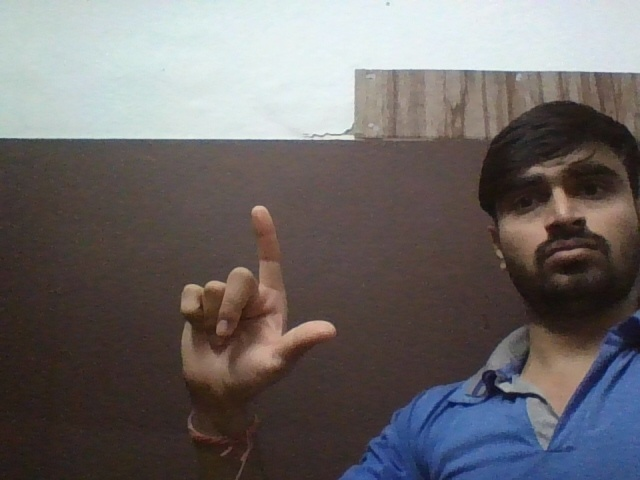L: (158, 198, 351, 405)
